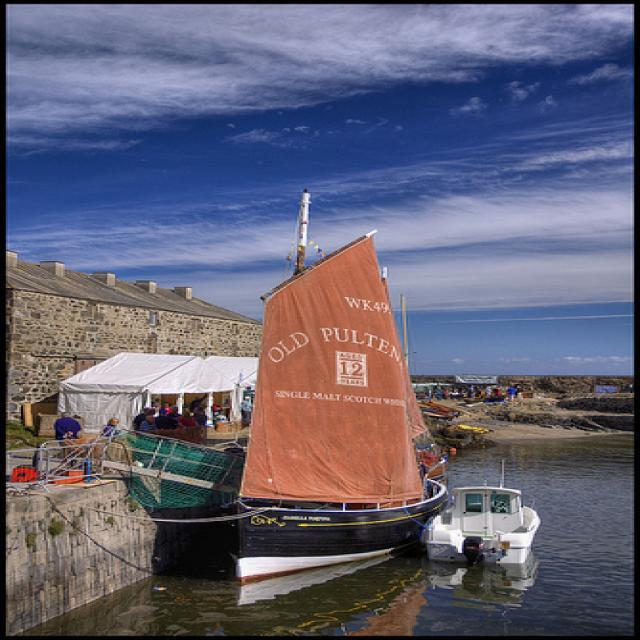Ship: (119, 222, 454, 585)
